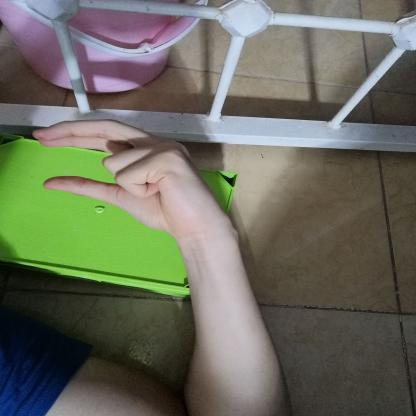DHELL: (18, 111, 228, 243)
